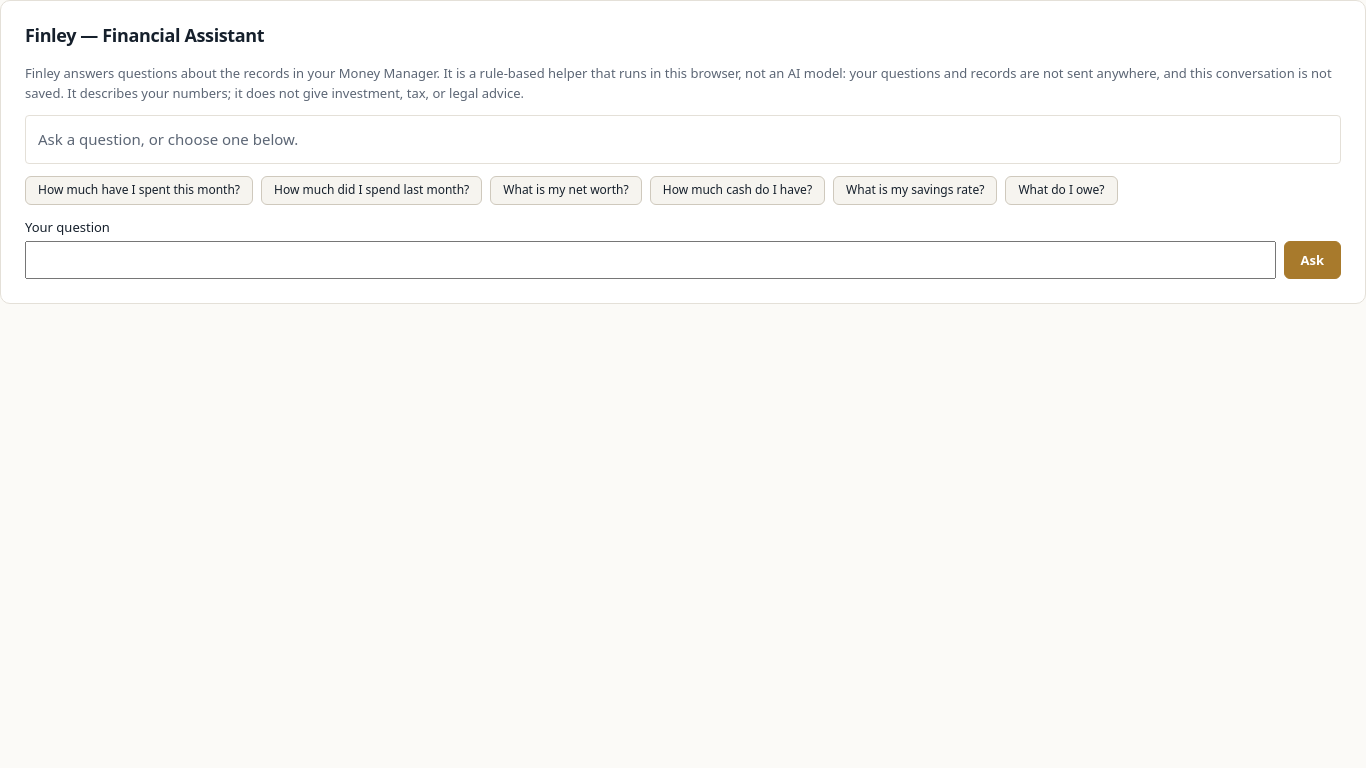
Test: FinleyPanel › makes no network requests and stores nothing
The width and height of the screenshot is (1366, 768).
Step 1. Click the button "What is my net worth?" → (566, 190), box [490,176,642,205]
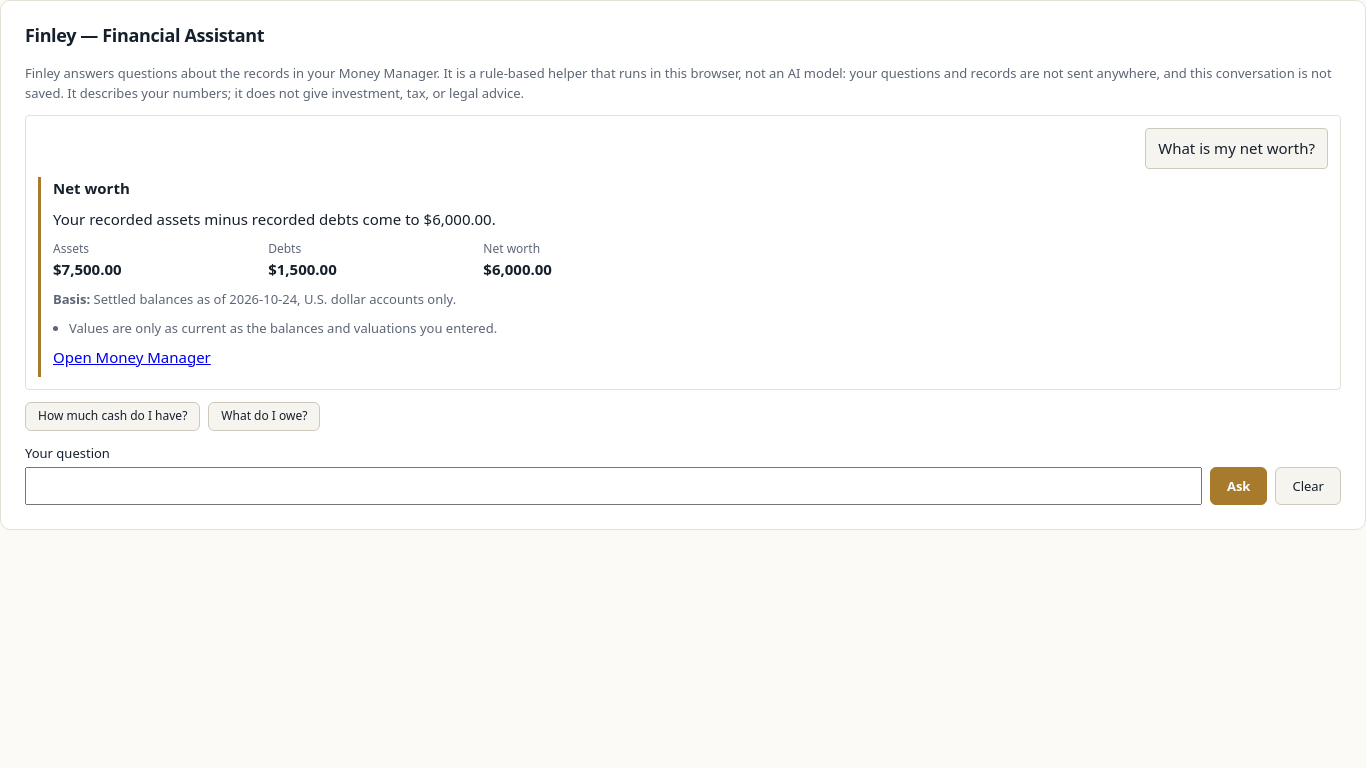
Step 2. Type "Should I buy Tesla stock?" into the field labelled "Your question" → (613, 486), box [25,467,1202,505]
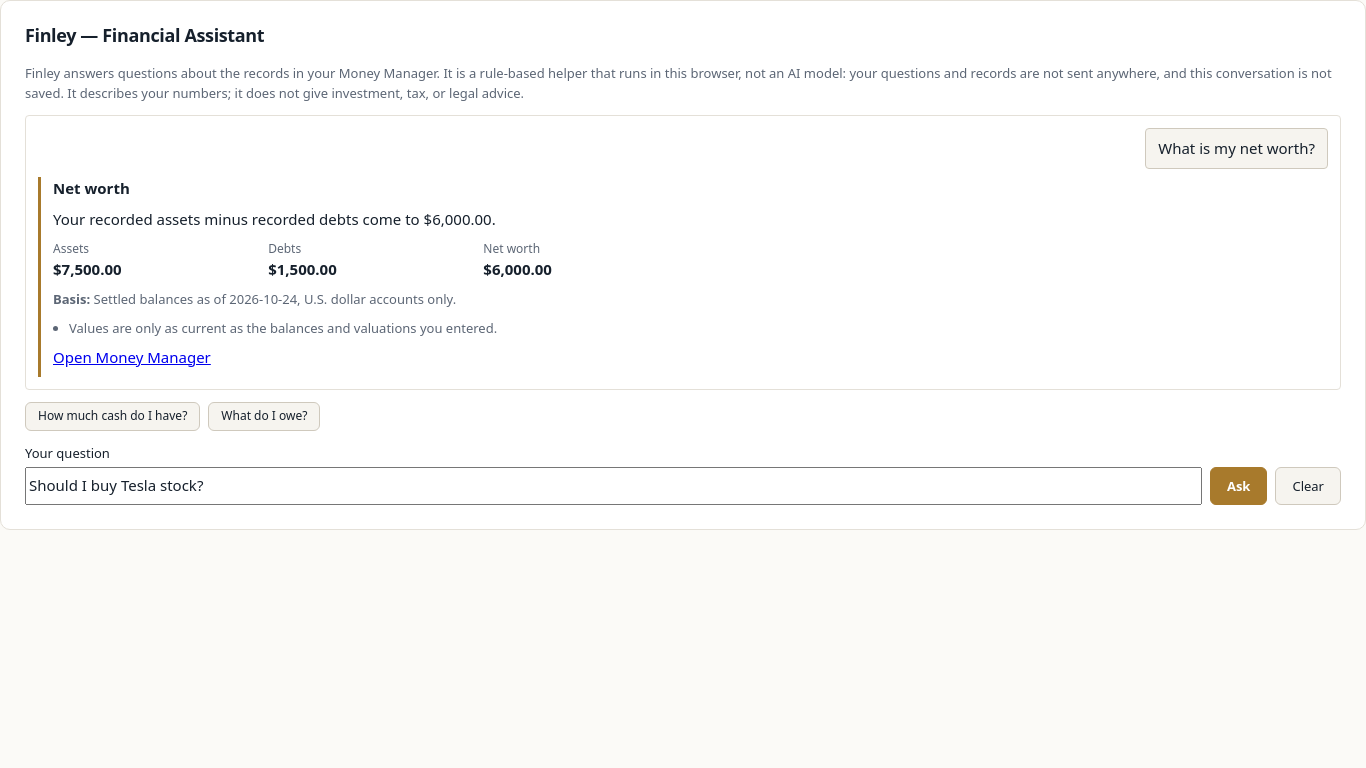
Step 3. Click the button "Ask" → (1239, 486), box [1210,467,1267,505]
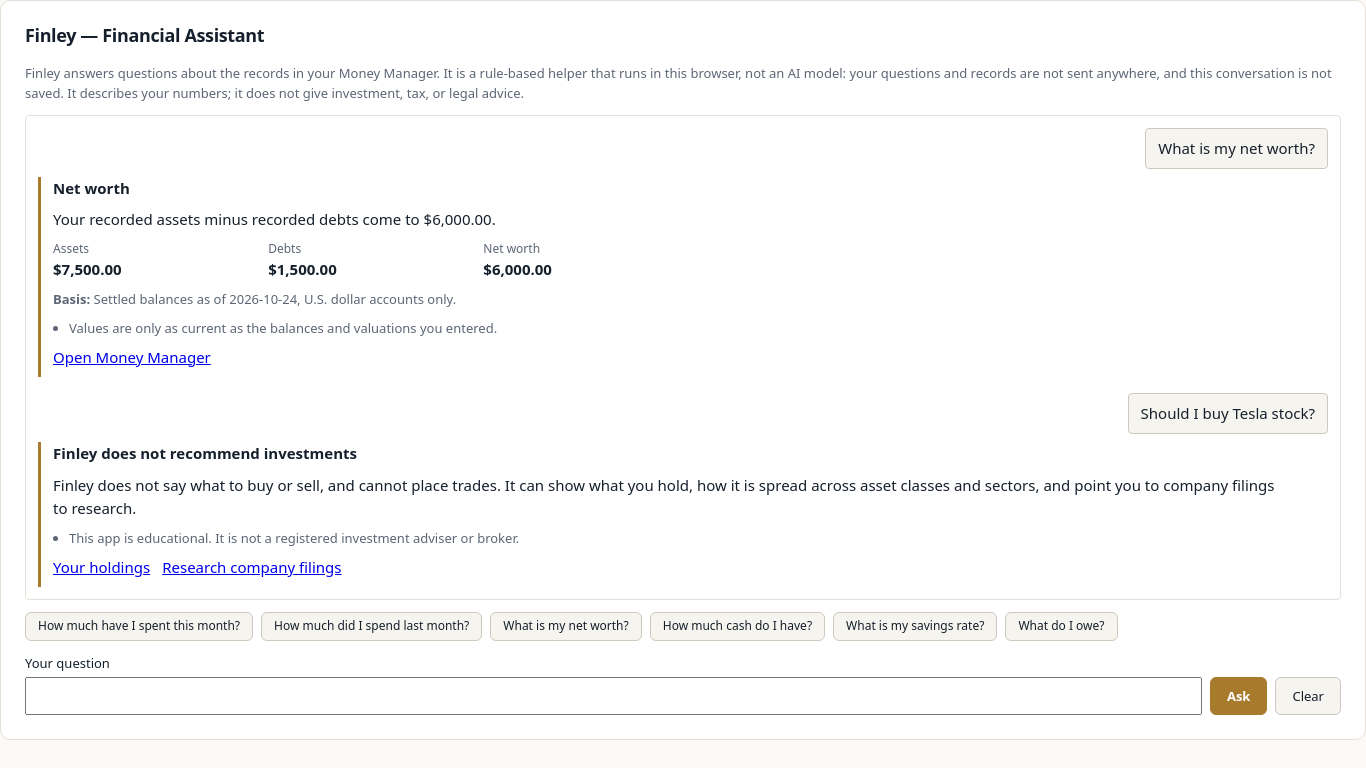
Check: the text "Finley does not recommend investments" is shown, box [53,443,357,463]
